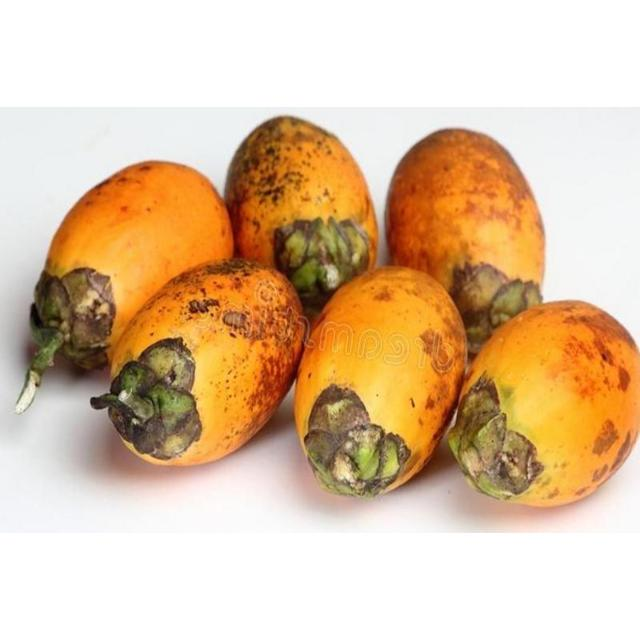good: (90, 260, 310, 469), (32, 161, 237, 375), (293, 267, 470, 500), (444, 301, 639, 509), (382, 128, 547, 354), (222, 115, 378, 320)
